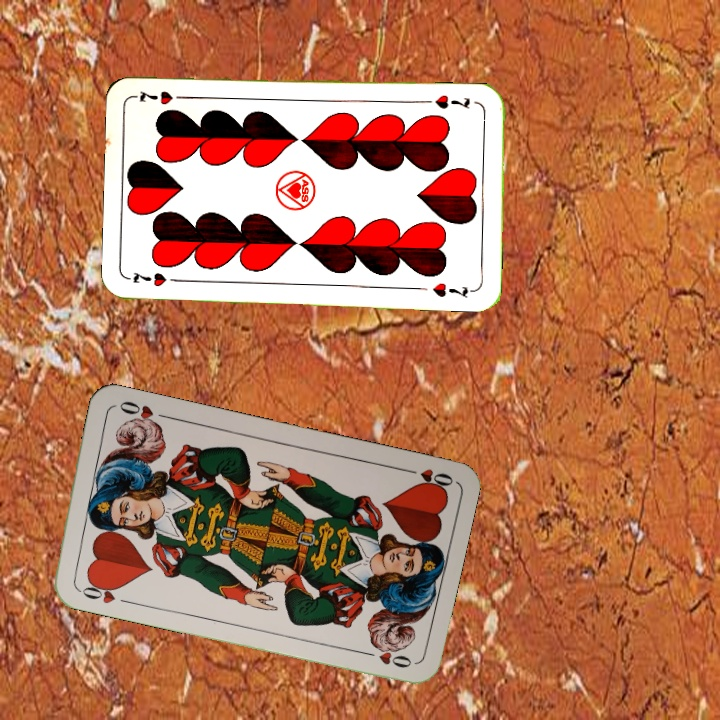H7: (126, 268, 185, 290), (431, 90, 473, 112)
HO: (73, 576, 131, 607), (397, 464, 455, 493)
